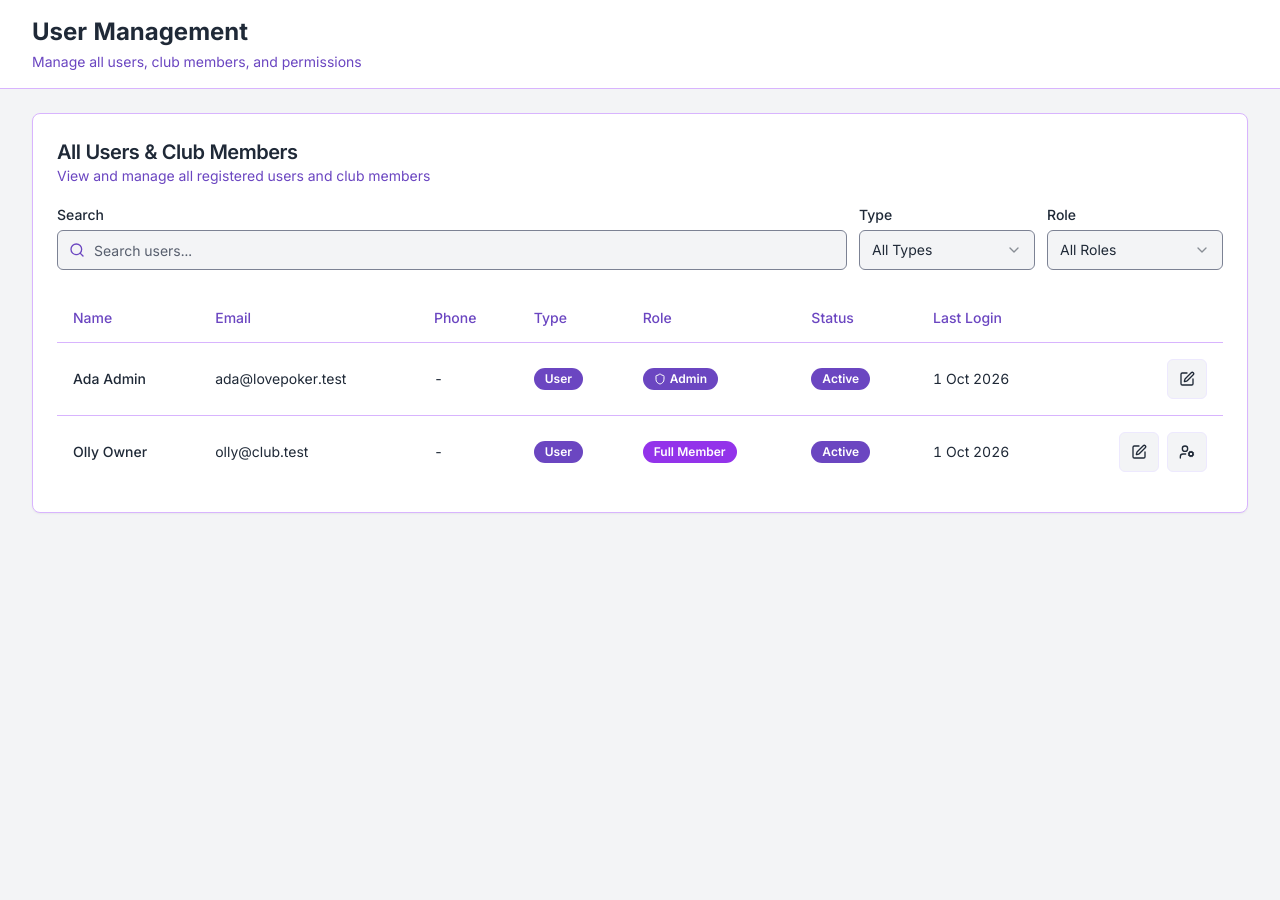
Test: User management: editing › saves an account's details, role and status, and refreshes the list
Step 1. Click the button named "Edit Olly Owner" → [1139, 452], box [1119, 432, 1159, 472]
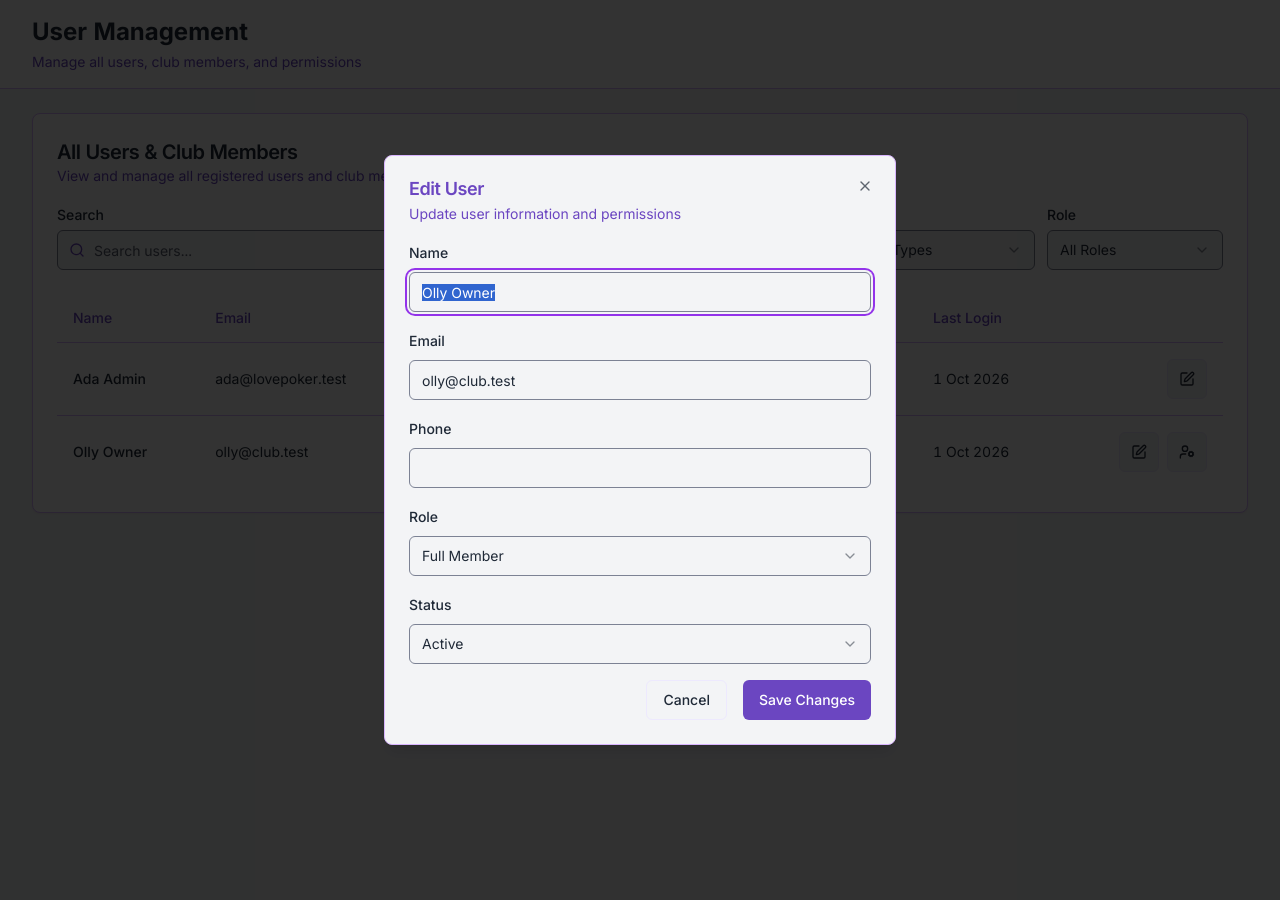
Step 2. Type "021 555 0199" into the field labelled "Phone" → [640, 468], box [409, 448, 871, 488]
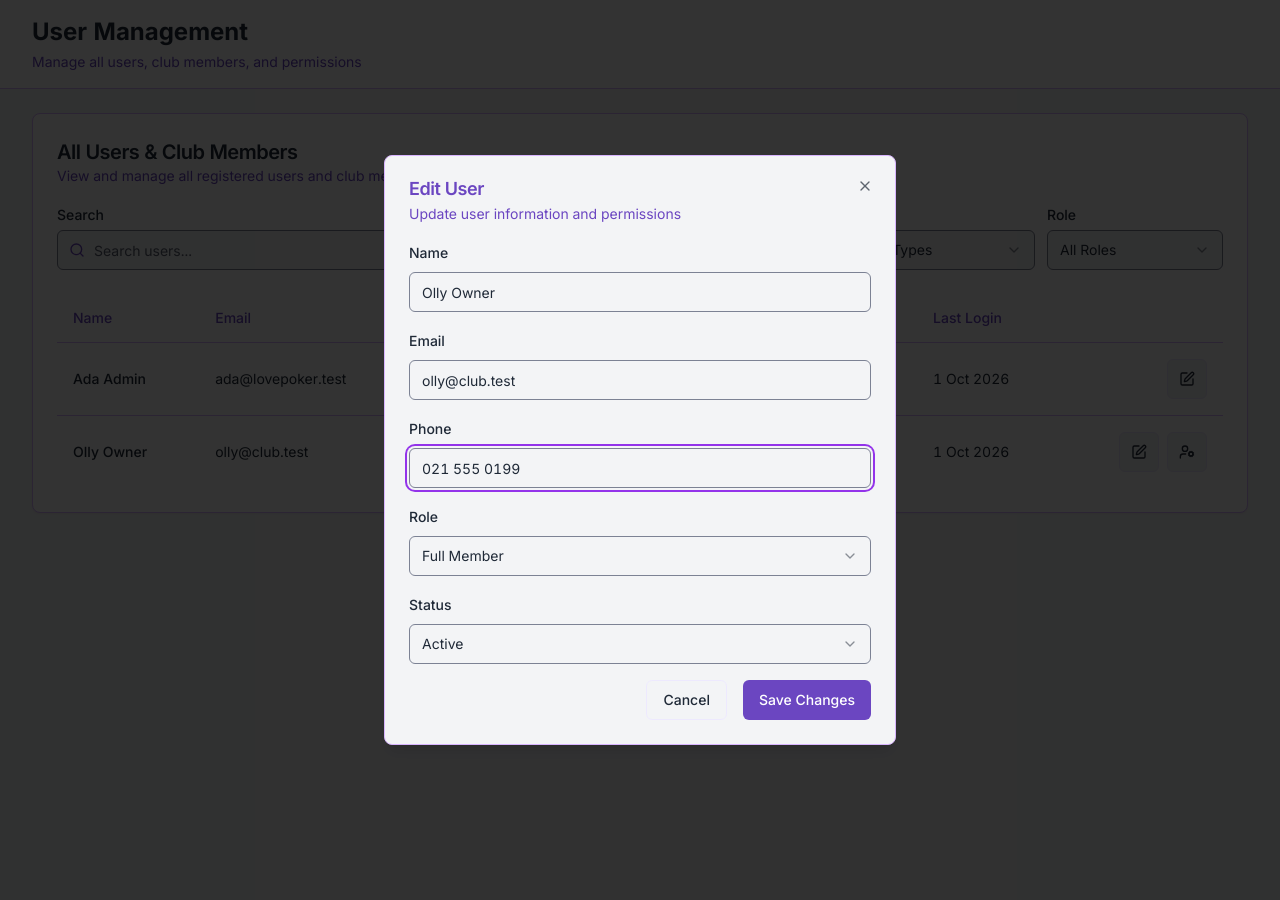
Step 3. Click the dropdown named "Role" → [463, 556], box [409, 536, 871, 576]
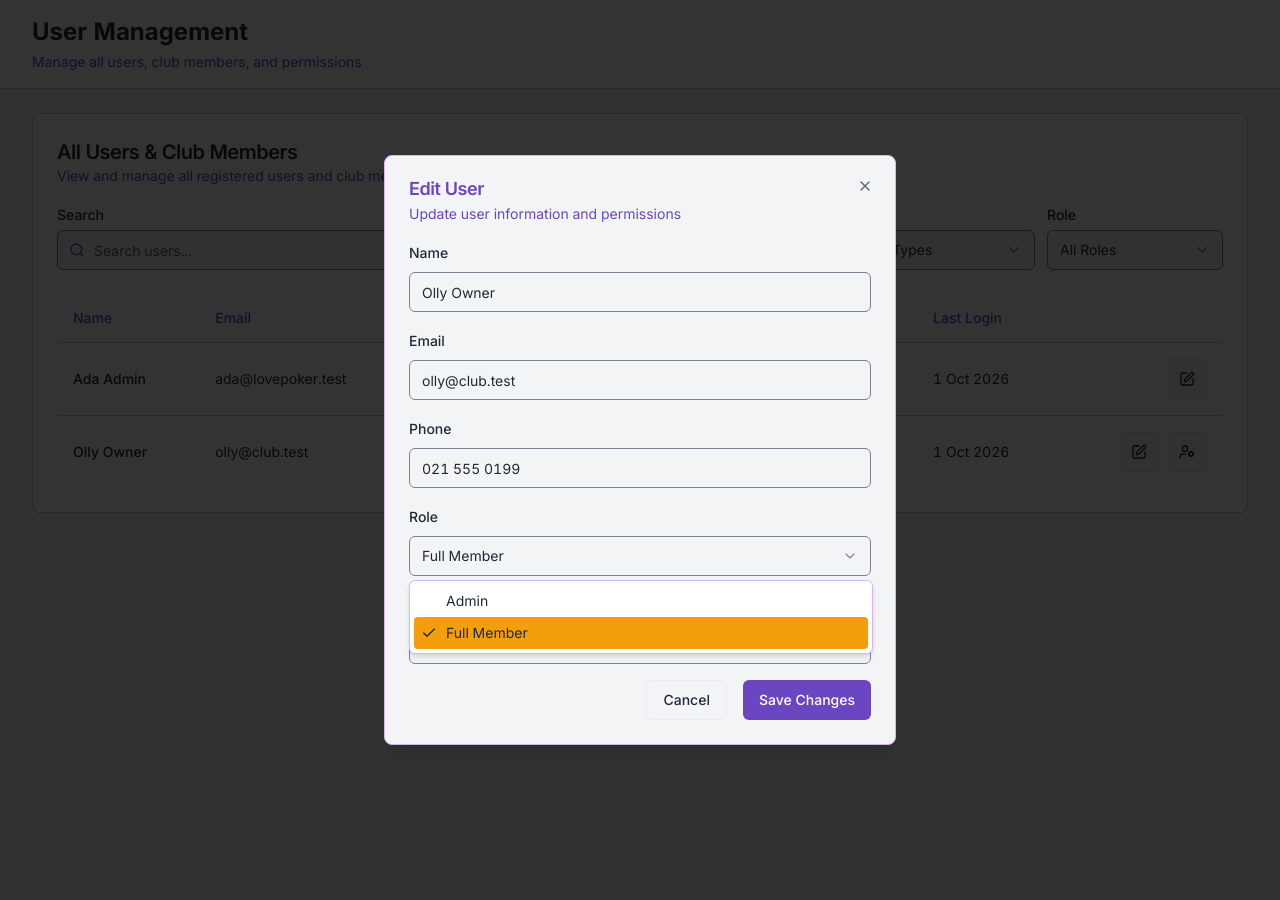
Step 4. Click the option "Admin" → [467, 600], box [446, 592, 488, 609]
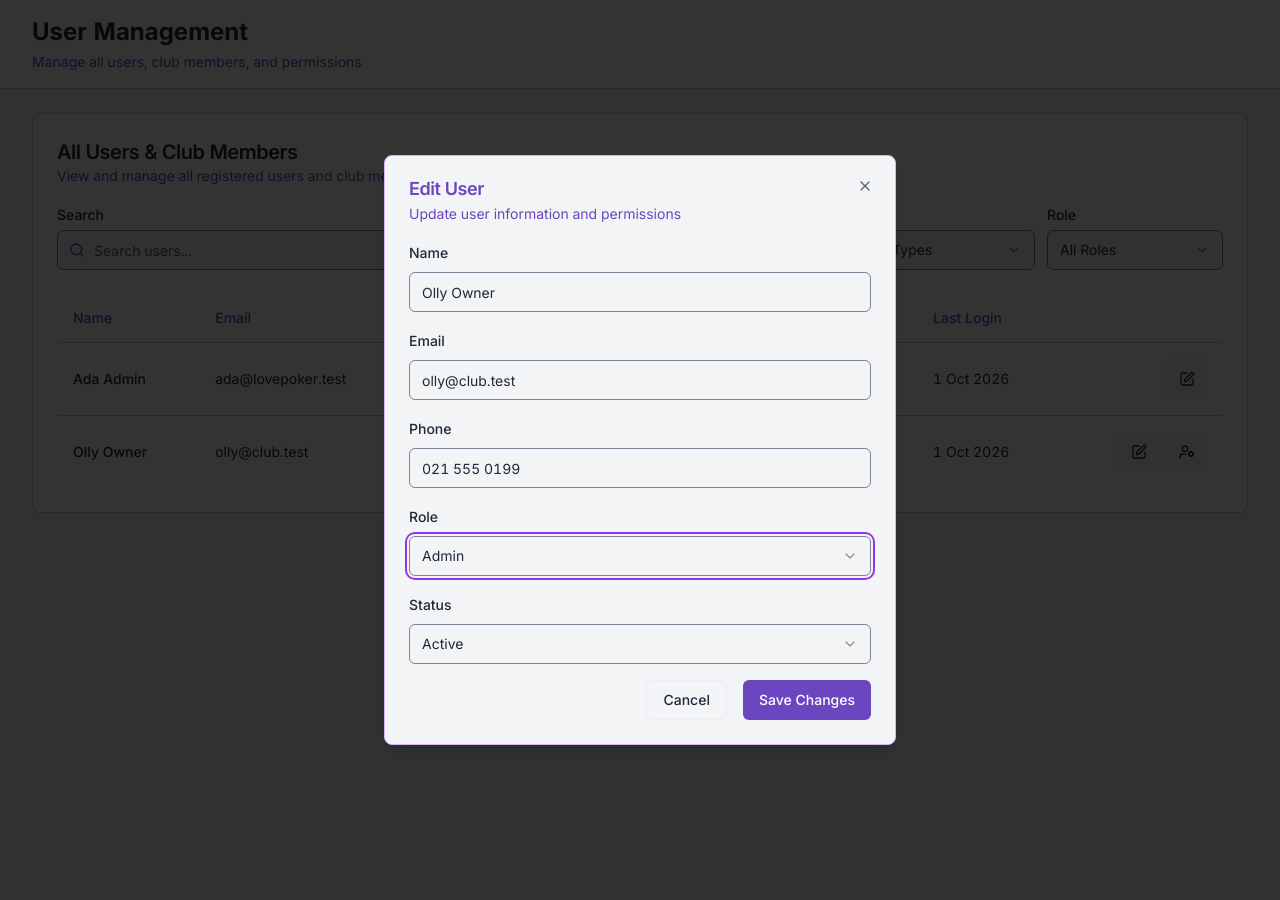
Step 5. Click the button "Save Changes" → [807, 700], box [743, 680, 871, 720]
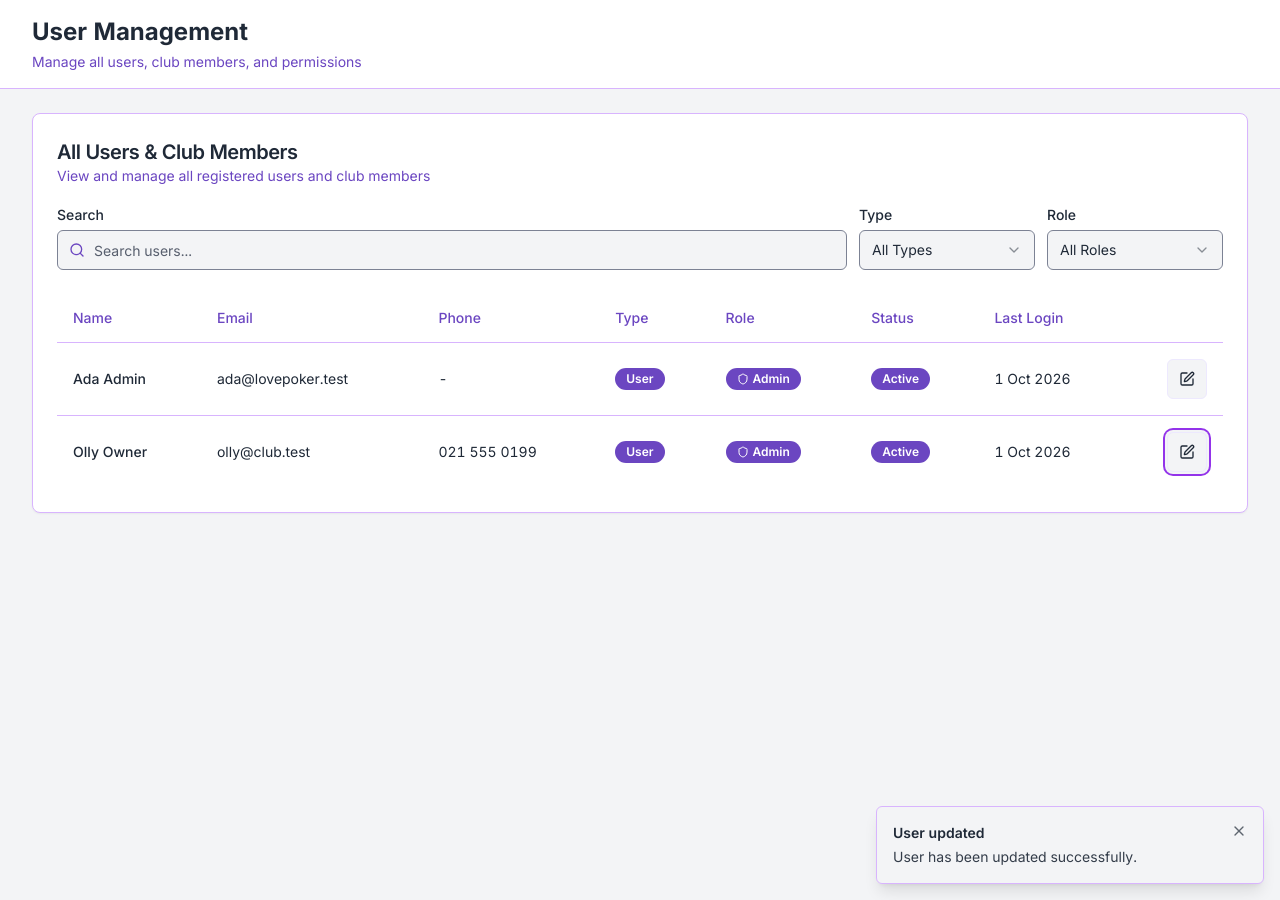
Expected: the text "User has been updated successfully." is shown, [893, 848, 1137, 865]
Expected: the heading "Edit User" is gone
